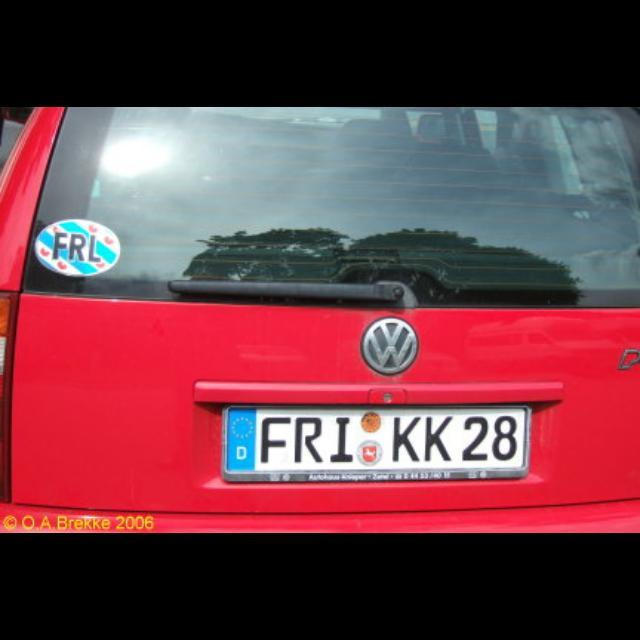license-plates: (223, 407, 531, 482)
